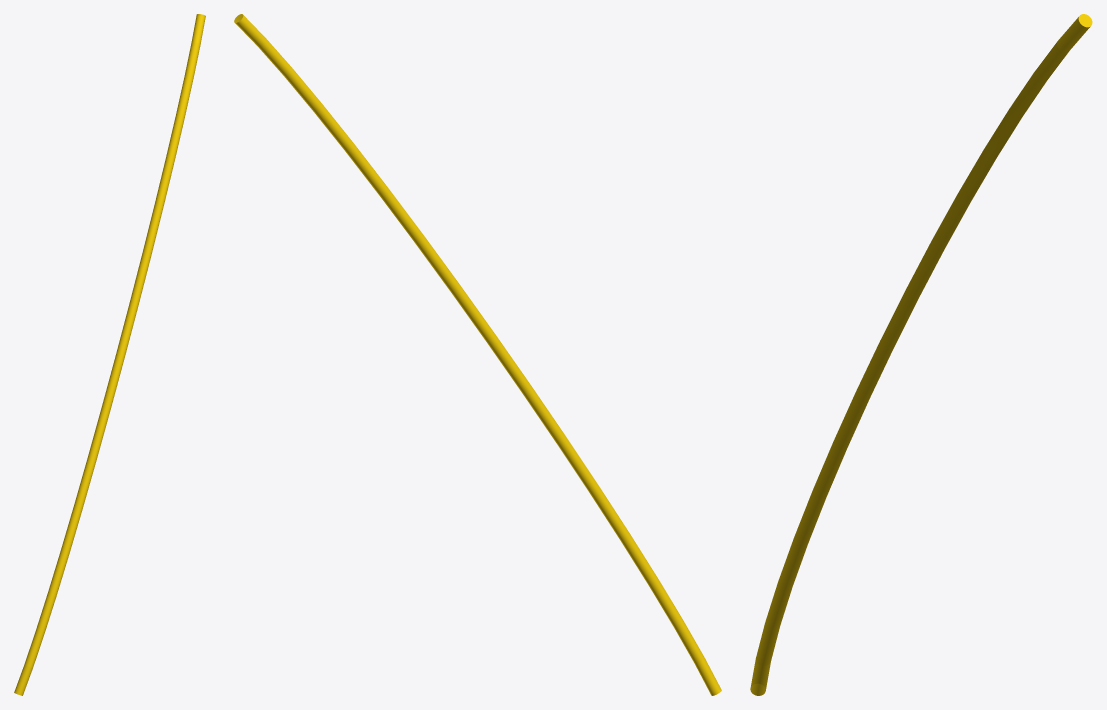
The model's file is Event_421127236_track_23.fbx.
The picture shows the model from 3 angles, left to right: view 1: azimuth 30°, elevation 25°; view 2: azimuth 150°, elevation 25°; view 3: azimuth 270°, elevation 25°; orthographic projection. The views are drawn at different scales.
Parts seen in each view (by area): view 1: Model; view 2: Model; view 3: Model.
Part boxes in pixels (left/top/right/bottom): Model: left=14, top=14, right=205, bottom=695; Model: left=234, top=14, right=721, bottom=695; Model: left=750, top=14, right=1092, bottom=695.
Size of the model in its own units: 1.43 by 2.57 by 0.8811.
